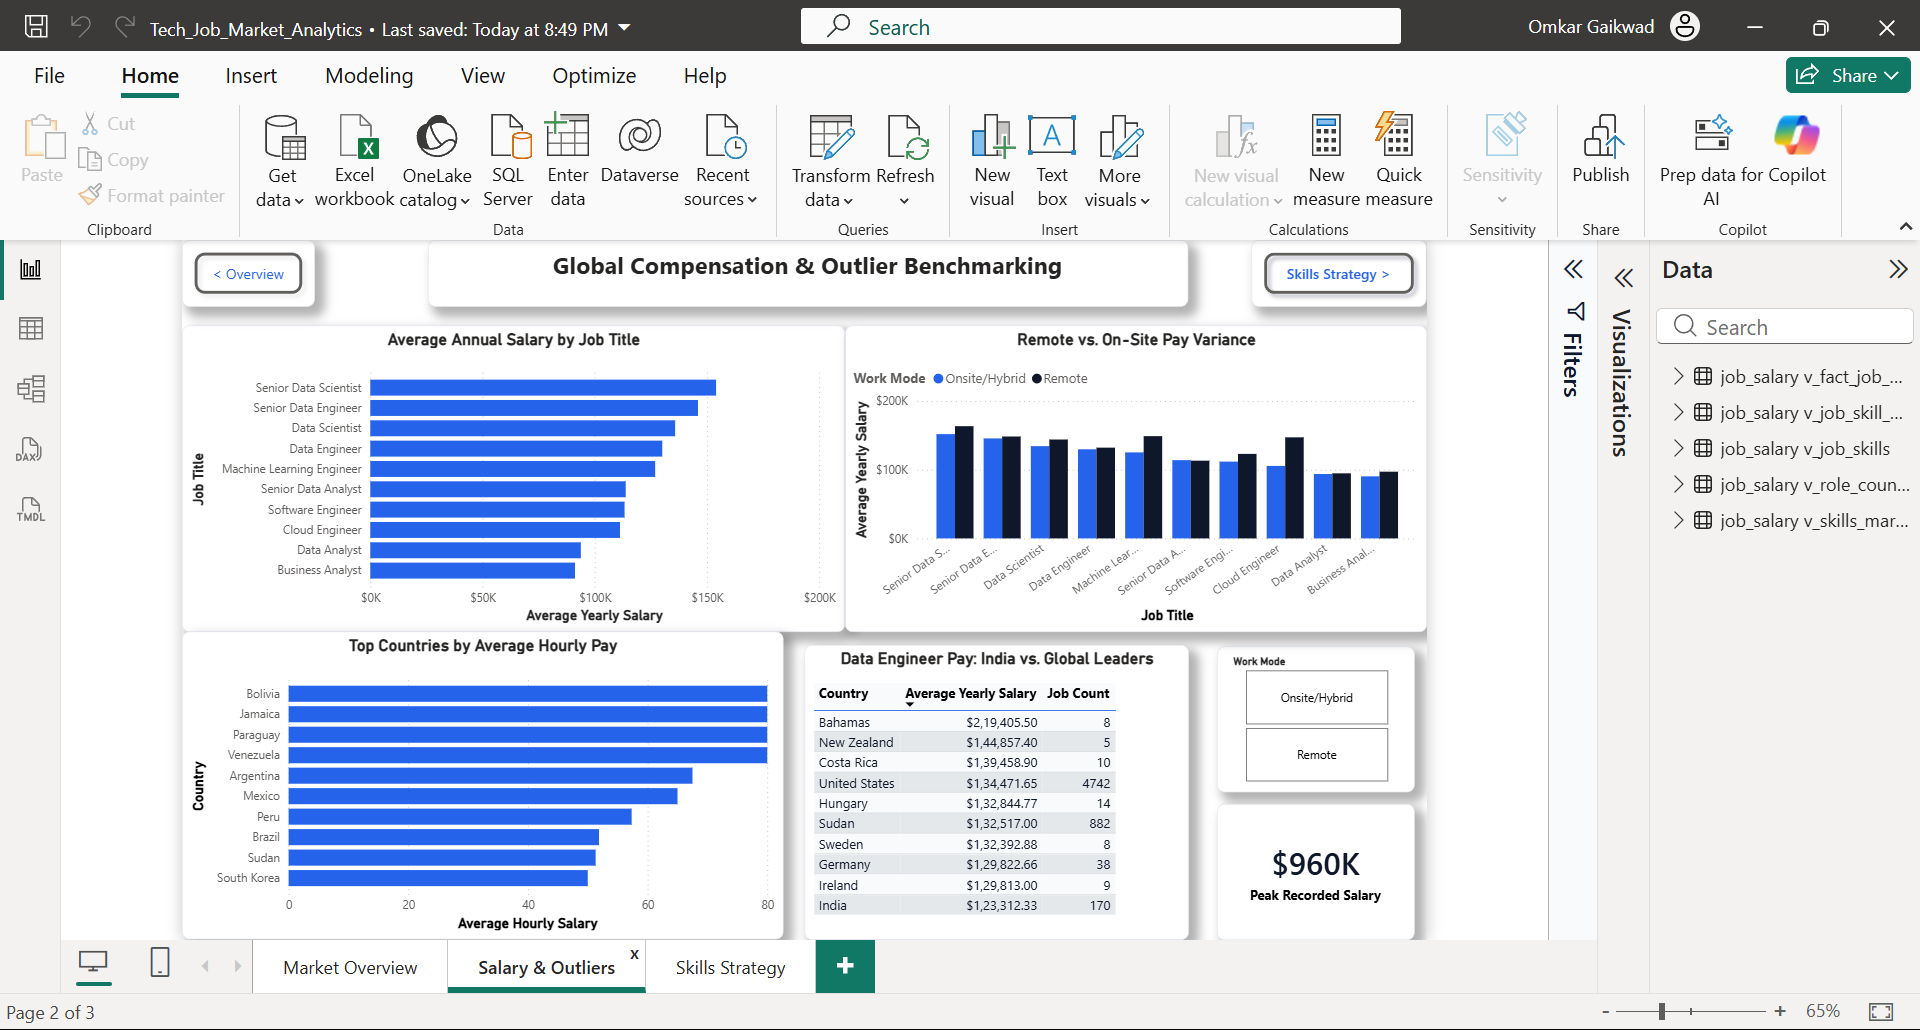

The dashboard page shown, as its layout file describes it:
{"tool":"powerbi","page":{"name":"Salary & Outliers","canvas":[1280,720],"ordinal":1},"visuals":[{"type":"clusteredBarChart","title":"Average Annual Salary by Job Title","fields":{"Category":["job_salary v_fact_job_postings.job_title_short"],"Y":["Avg(job_salary v_fact_job_postings.salary_year)"]},"box":[0,88.3,681.7,315],"z":0},{"type":"textbox","box":[253.3,0,781.7,68.3],"z":1000},{"type":"slicer","fields":{"Values":["job_salary v_fact_job_postings.work_type"]},"box":[1065,418.3,203.3,150],"z":2000},{"type":"clusteredColumnChart","title":"Remote vs. On-Site Pay Variance","fields":{"Category":["job_salary v_fact_job_postings.job_title_short"],"Series":["job_salary v_fact_job_postings.work_type"],"Y":["Avg(job_salary v_fact_job_postings.salary_year)"]},"box":[681.7,88.3,598.3,315],"z":3000},{"type":"clusteredBarChart","title":"Top Countries by Average Hourly Pay","fields":{"Category":["job_salary v_fact_job_postings.job_country"],"Y":["Avg(job_salary v_fact_job_postings.salary_hour)"]},"box":[0,403.3,618.3,316.7],"z":4000},{"type":"tableEx","title":"Data Engineer Pay: India vs. Global Leaders","fields":{"Values":["job_salary v_fact_job_postings.job_country","Avg(job_salary v_fact_job_postings.salary_year)","job_salary v_fact_job_postings.job_id"]},"box":[640,416.7,395,303.3],"z":5000},{"type":"card","fields":{"Values":["Max(job_salary v_fact_job_postings.salary_year)"]},"box":[1065,580,203.3,140],"z":6000},{"type":"actionButton","box":[0,0,136.7,68.3],"z":6002},{"type":"actionButton","box":[1100,0,180,68.3],"z":6003}]}

Visuals, with their boxes on the page's 1280x720 design canvas (x1, y1, x2, y2). These are canvas units, not pixel positions in the 1920x1030 screenshot, which may show the page scaled, cropped or inside an application window:
"Average Annual Salary by Job Title" clusteredBarChart: [x1=0, y1=88, x2=682, y2=403]
textbox: [x1=253, y1=0, x2=1035, y2=68]
slicer - job_salary v_fact_job_postings.work_type: [x1=1065, y1=418, x2=1268, y2=568]
"Remote vs. On-Site Pay Variance" clusteredColumnChart: [x1=682, y1=88, x2=1280, y2=403]
"Top Countries by Average Hourly Pay" clusteredBarChart: [x1=0, y1=403, x2=618, y2=720]
"Data Engineer Pay: India vs. Global Leaders" tableEx: [x1=640, y1=417, x2=1035, y2=720]
card - Max(job_salary v_fact_job_postings.salary_year): [x1=1065, y1=580, x2=1268, y2=720]
actionButton: [x1=0, y1=0, x2=137, y2=68]
actionButton: [x1=1100, y1=0, x2=1280, y2=68]
